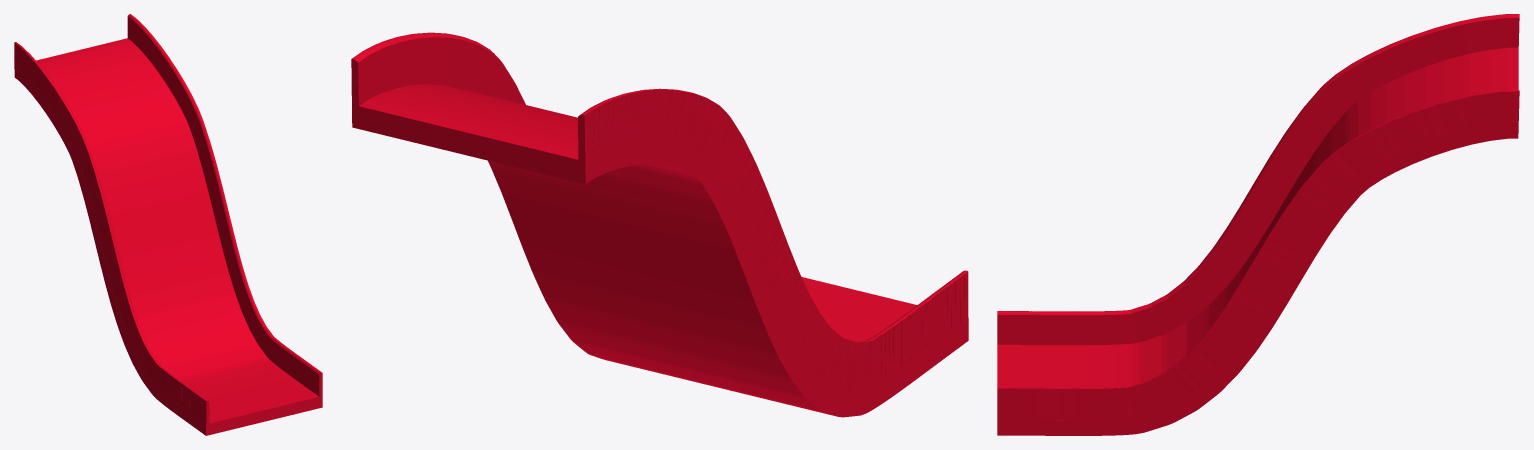
Rendered from slideonly.fbx.
3 views of the same model, side by side, from view 1: azimuth 30°, elevation 25°; view 2: azimuth 150°, elevation 25°; view 3: azimuth 270°, elevation 25° (orthographic). The views are drawn at different scales.
Parts seen in each view (by area): view 1: Cube.001; view 2: Cube.001; view 3: Cube.001.
Part boxes in pixels (box(x1,y1,x2,y2)): Cube.001: box(14, 14, 322, 435); Cube.001: box(351, 32, 968, 417); Cube.001: box(997, 14, 1519, 435).
Bounding box in the file's own units: 350 × 726 × 997.
